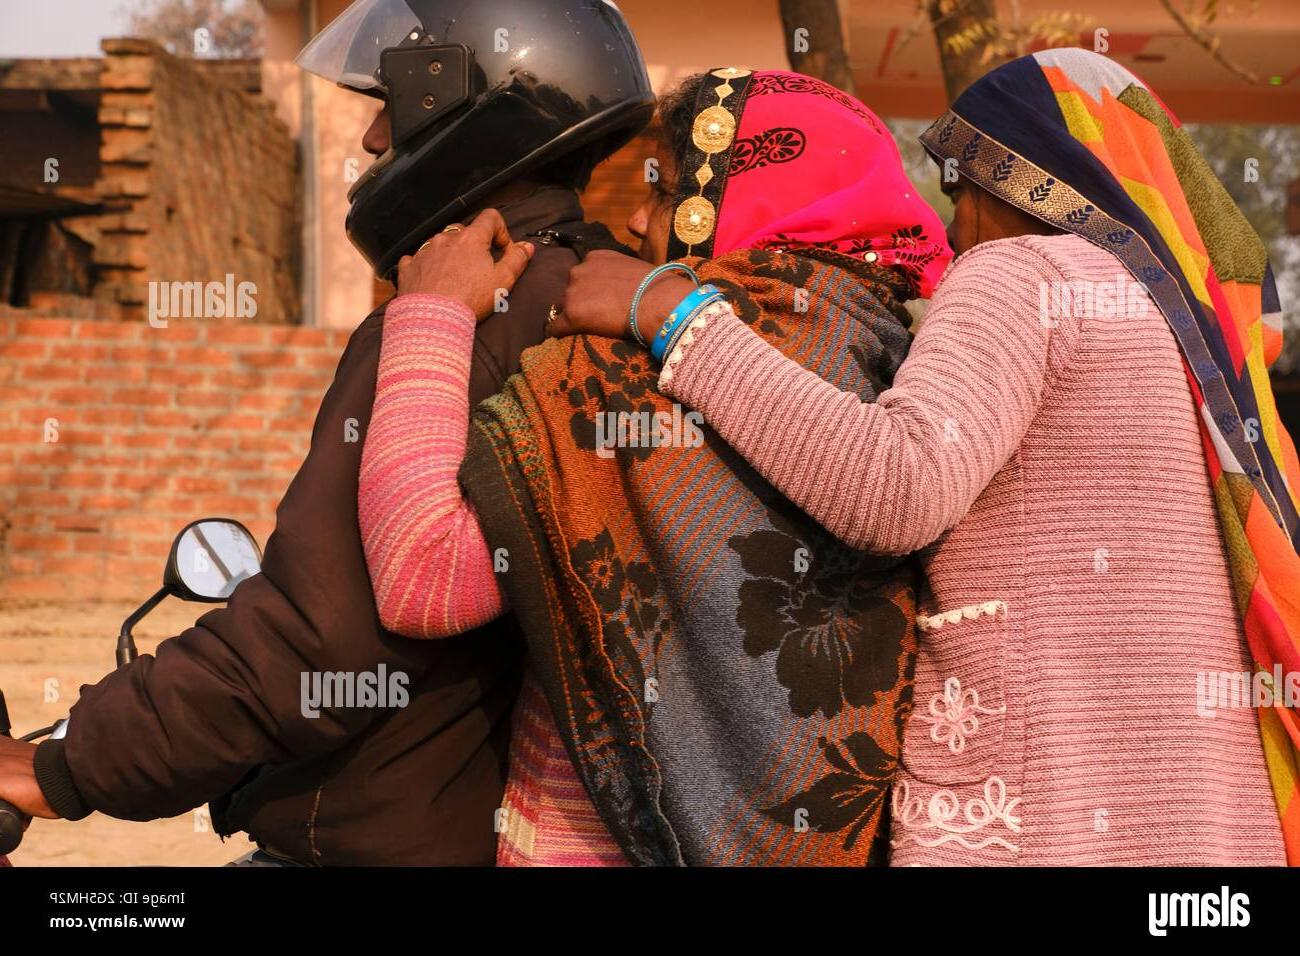Helmet: (332, 0, 651, 279)
